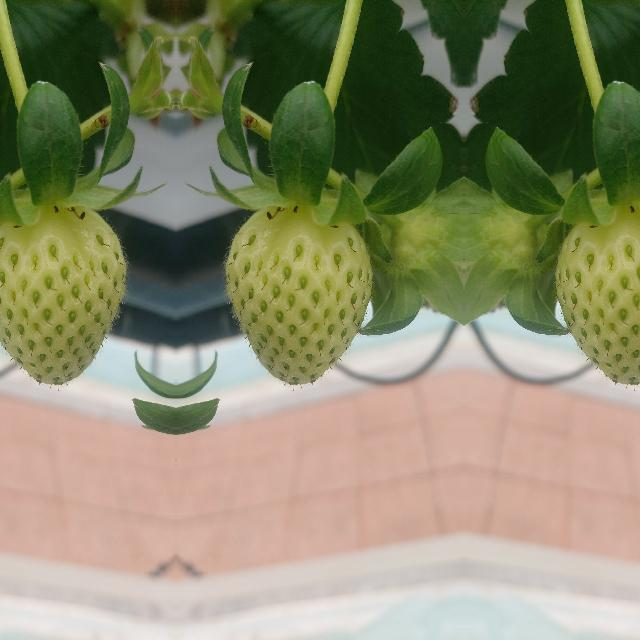Health_25: (225, 207, 372, 385), (0, 207, 125, 385), (554, 207, 640, 385)
